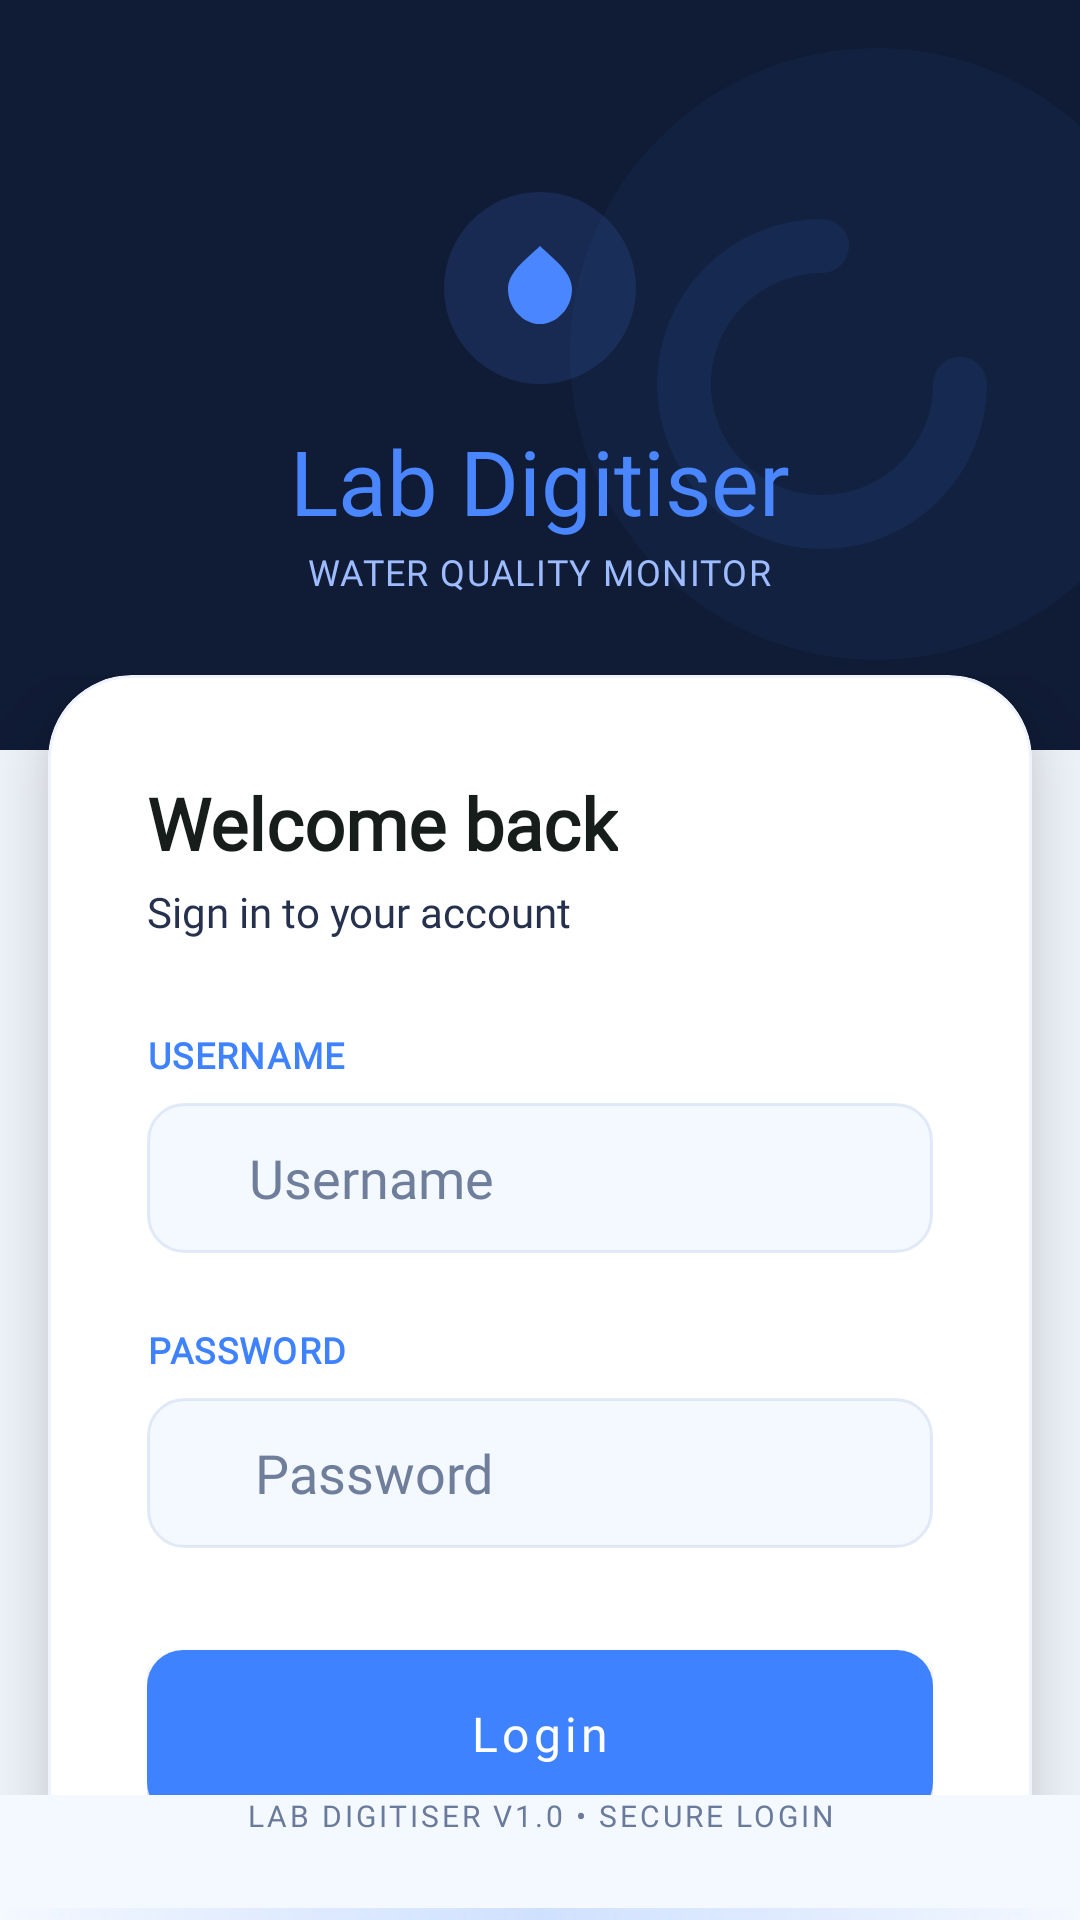

Point at icon controls on the screen. Image size 1080×1920, points as [x,y].
lab drop: [540,285]
